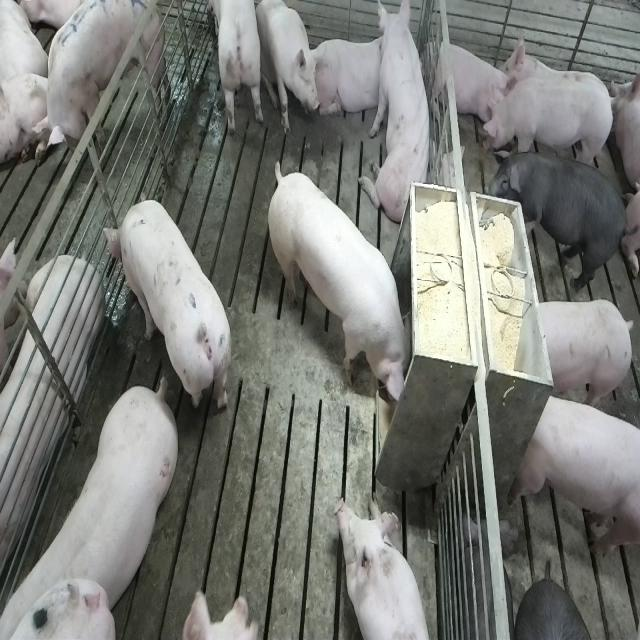Feeding: (272, 161, 421, 409)
Sitting: (365, 4, 436, 230), (256, 1, 320, 140)
Standing: (6, 372, 183, 633), (102, 198, 233, 421), (514, 387, 638, 563), (34, 0, 173, 150), (502, 142, 627, 290), (479, 74, 617, 168), (530, 296, 634, 413), (202, 0, 264, 135)
Sternal_lying: (0, 244, 102, 582), (333, 494, 434, 640), (427, 35, 510, 134), (312, 33, 387, 124)
